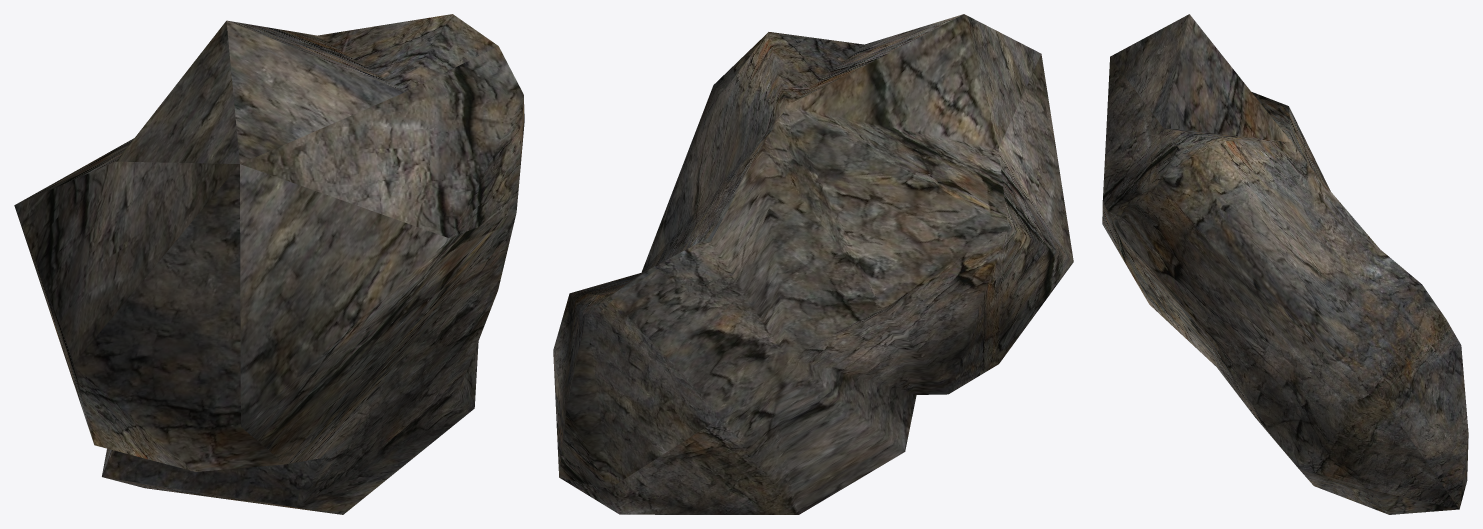
Rendered from pir_m_prp_cav_rock_bigger.fbx.
The picture shows the model from 3 angles, left to right: view 1: azimuth 30°, elevation 25°; view 2: azimuth 150°, elevation 25°; view 3: azimuth 270°, elevation 25°; orthographic projection. The views are drawn at different scales.
Visible parts, largest first — view 1: pSphere2; view 2: pSphere2; view 3: pSphere2.
Boxes of the visible parts, box(x1,y1,x2,y2) form: pSphere2: box(14, 14, 524, 514); pSphere2: box(553, 14, 1073, 514); pSphere2: box(1102, 14, 1468, 514).
Size of the model in its own units: 12284 by 12969 by 10648.
1 material, 1 textured.
